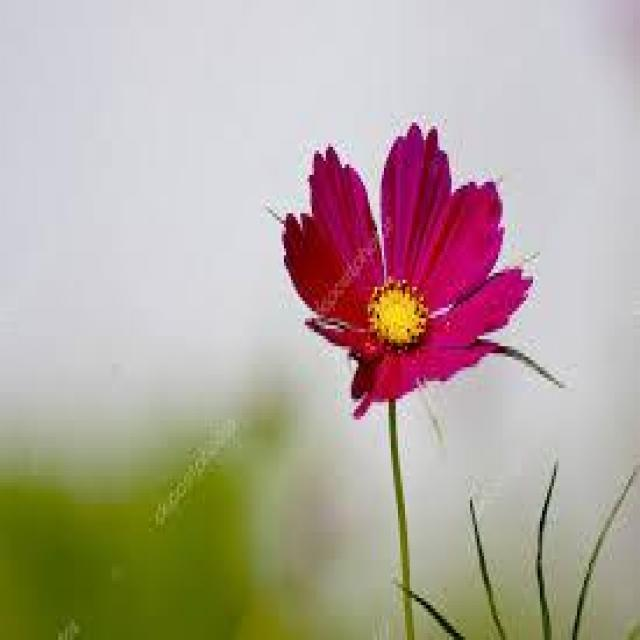organic waste: (260, 114, 566, 418)
